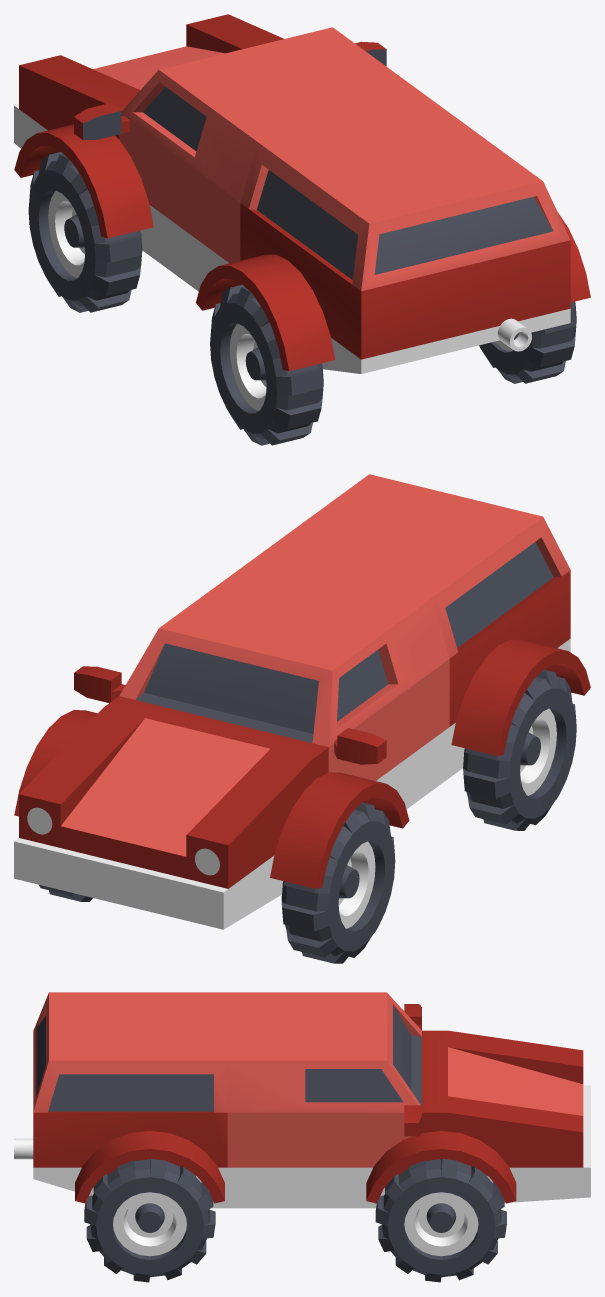
Rendered from Traffic Offroad Red.fbx.
3 views of the same model, one above another, from view 1: azimuth 30°, elevation 25°; view 2: azimuth 150°, elevation 25°; view 3: azimuth 270°, elevation 25° (orthographic). The views are drawn at different scales.
Parts seen in each view (by area): view 1: trunk_station_87, windshield_square_83, wheel_dirt_107, wheel_dirt_108, hood_square_116, detail_fender_110, detail_fender_109, wheel_dirt_114, detail_mirror_101, detail_fender_113, detail_exhaust_103; view 2: hood_square_116, windshield_square_83, trunk_station_87, wheel_dirt_107, wheel_dirt_108, detail_fender_109, detail_fender_110, detail_fender_111, detail_mirror_101, detail_mirror_102; view 3: windshield_square_83, trunk_station_87, hood_square_116, wheel_dirt_114, wheel_dirt_112, detail_fender_111, detail_fender_113, detail_mirror_102, detail_exhaust_103.
Boxes of the visible parts, left/top/right/bottom form: trunk_station_87: left=240, top=100, right=570, bottom=373; windshield_square_83: left=119, top=27, right=431, bottom=291; wheel_dirt_107: left=28, top=152, right=142, bottom=312; wheel_dirt_108: left=210, top=284, right=323, bottom=445; hood_square_116: left=14, top=14, right=283, bottom=148; detail_fender_110: left=196, top=254, right=335, bottom=371; detail_fender_109: left=14, top=124, right=153, bottom=238; wheel_dirt_114: left=479, top=301, right=576, bottom=383; detail_mirror_101: left=74, top=103, right=129, bottom=140; detail_fender_113: left=557, top=212, right=590, bottom=302; detail_exhaust_103: left=497, top=318, right=531, bottom=351; hood_square_116: left=14, top=696, right=328, bottom=929; windshield_square_83: left=119, top=555, right=449, bottom=809; trunk_station_87: left=258, top=474, right=570, bottom=777; wheel_dirt_107: left=281, top=802, right=395, bottom=963; wheel_dirt_108: left=463, top=669, right=576, bottom=830; detail_fender_109: left=270, top=772, right=409, bottom=888; detail_fender_110: left=451, top=639, right=590, bottom=756; detail_fender_111: left=14, top=710, right=97, bottom=816; detail_mirror_101: left=334, top=728, right=386, bottom=764; detail_mirror_102: left=74, top=666, right=125, bottom=703; windshield_square_83: left=227, top=992, right=421, bottom=1208; trunk_station_87: left=33, top=992, right=227, bottom=1208; hood_square_116: left=422, top=1030, right=590, bottom=1202; wheel_dirt_114: left=84, top=1158, right=215, bottom=1282; wheel_dirt_112: left=375, top=1158, right=506, bottom=1282; detail_fender_111: left=366, top=1131, right=516, bottom=1203; detail_fender_113: left=75, top=1131, right=224, bottom=1203; detail_mirror_102: left=404, top=1105, right=421, bottom=1136; detail_exhaust_103: left=14, top=1138, right=33, bottom=1159.
Bounding box in the file's own units: 14.5 × 11.38 × 29.7.
